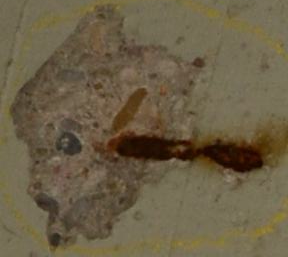Exposed reinforcement: (116, 135, 263, 174)
Spalling: (10, 2, 197, 257)
